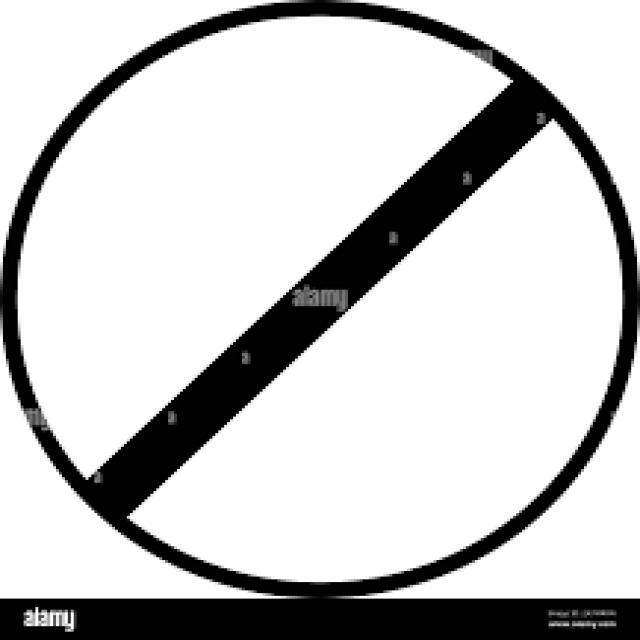restriction ends: (6, 10, 624, 590)
